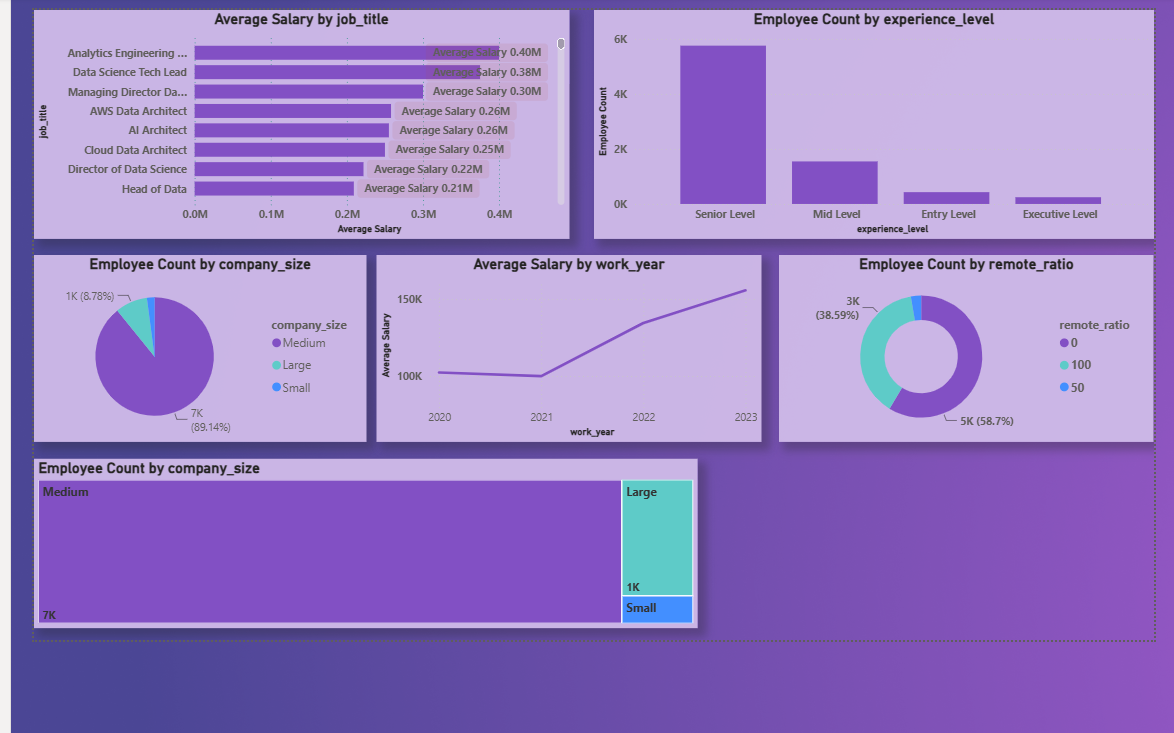

What the dashboard file says about the page in this screenshot:
{"tool":"powerbi","page":{"name":"Visualizations","canvas":[1280,720],"ordinal":1},"visuals":[{"type":"clusteredBarChart","fields":{"Category":["salaries.job_title"],"Y":["salaries.Average Salary"]},"box":[0,0,611.7,261.7],"z":0},{"type":"columnChart","fields":{"Category":["salaries.experience_level"],"Y":["salaries.Employee Count"]},"box":[640,0,640,261.7],"z":1000},{"type":"pieChart","fields":{"Category":["salaries.company_size"],"Y":["salaries.Employee Count"]},"box":[0,280,380,213.3],"z":2000},{"type":"lineChart","fields":{"Category":["salaries.work_year"],"Y":["salaries.Average Salary"]},"box":[391.7,280,440,213.3],"z":3000},{"type":"donutChart","fields":{"Category":["salaries.remote_ratio"],"Y":["salaries.Employee Count"]},"box":[851.7,280,428.3,213.3],"z":4000},{"type":"treemap","fields":{"Group":["salaries.company_size"],"Values":["salaries.Employee Count"]},"box":[0,513.3,758.3,193.3],"z":5000}]}

Visuals, with their boxes in screenshot pixels (x1, y1, x2, y2):
clusteredBarChart - salaries.job_title x salaries.Average Salary: {"left": 31, "top": 6, "right": 564, "bottom": 234}
columnChart - salaries.experience_level x salaries.Employee Count: {"left": 589, "top": 6, "right": 1147, "bottom": 234}
pieChart - salaries.company_size x salaries.Employee Count: {"left": 31, "top": 250, "right": 362, "bottom": 436}
lineChart - salaries.work_year x salaries.Average Salary: {"left": 372, "top": 250, "right": 756, "bottom": 436}
donutChart - salaries.remote_ratio x salaries.Employee Count: {"left": 774, "top": 250, "right": 1147, "bottom": 436}
treemap - salaries.company_size x salaries.Employee Count: {"left": 31, "top": 454, "right": 692, "bottom": 623}
